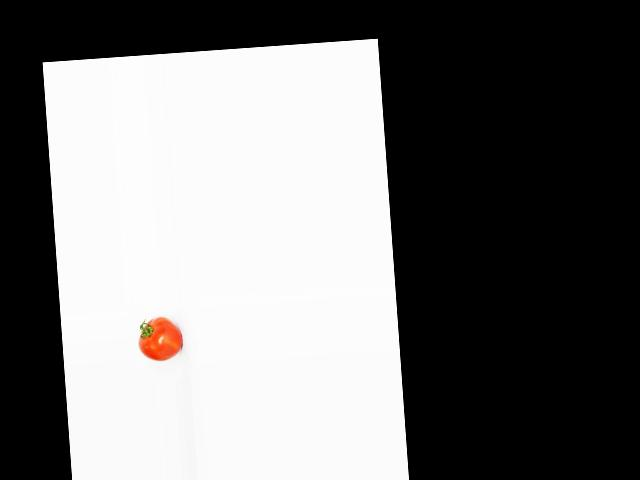tomato: (136, 316, 183, 362)
